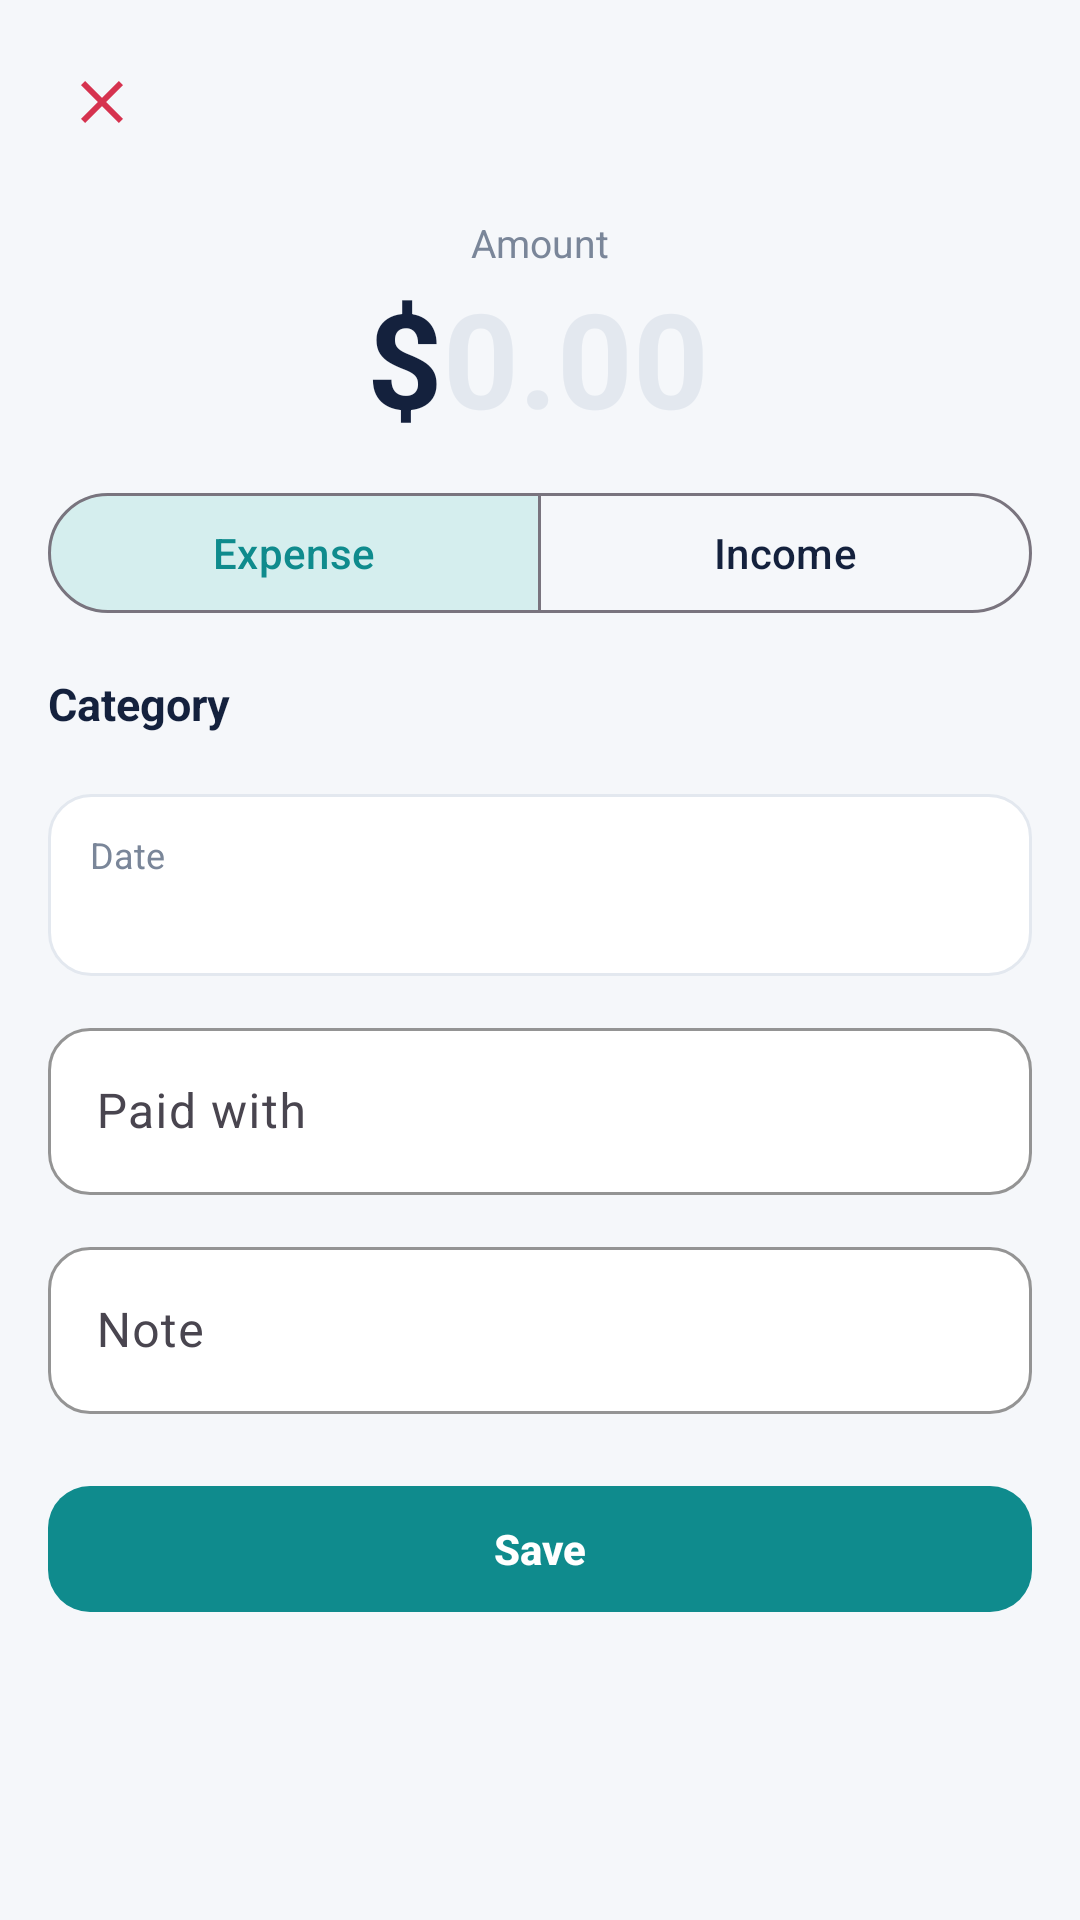

Named icons in this screenshot (1080px x 1920px) and their bounding boxes, (x1, y1, x2, y2):
Close: (81, 81, 123, 123)
